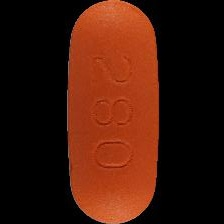54868-6278: (0, 0, 224, 224)
